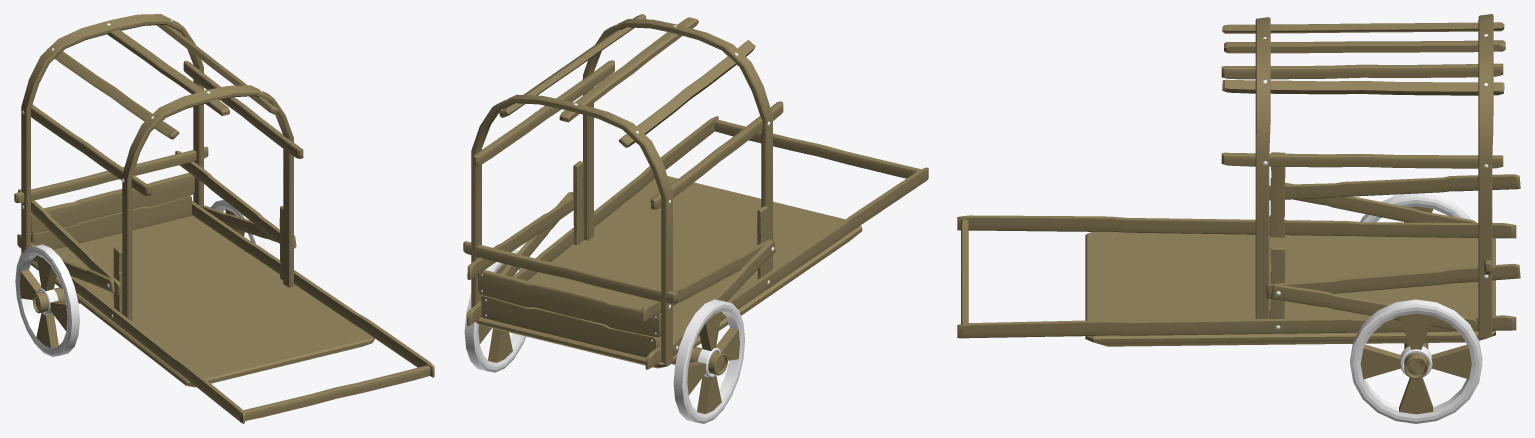
The model's file is Waggon.fbx.
3 renders of one model, left to right at view 1: azimuth 30°, elevation 25°; view 2: azimuth 150°, elevation 25°; view 3: azimuth 270°, elevation 25°, orthographic. The views are drawn at different scales.
Visible parts, largest first — view 1: Waggon, Wheel_R, Wheel_L, Pivot; view 2: Waggon, Wheel_R, Wheel_L, Pivot; view 3: Waggon, Wheel_L, Wheel_R, Pivot.
Part boxes in pixels (x1,y1,x2,y2): Waggon: (14,14,434,423); Wheel_R: (15,244,79,356); Wheel_L: (210,199,265,250); Pivot: (32,287,79,313); Waggon: (463,14,928,369); Wheel_R: (673,299,744,423); Wheel_L: (464,250,525,372); Pivot: (671,347,727,375); Waggon: (957,14,1520,346); Wheel_L: (1350,299,1482,423); Wheel_R: (1360,193,1470,222); Pivot: (1404,343,1428,378).
Bounding box in the file's own units: 166 × 212 × 326.
